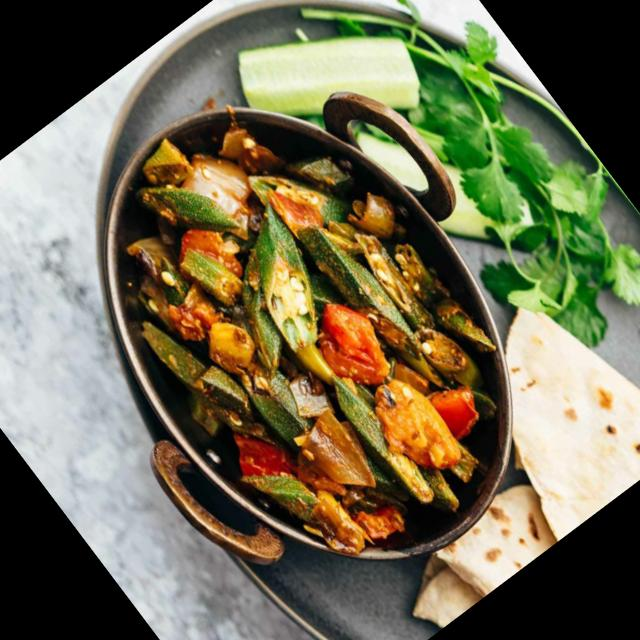BhindiMasala: (46, 50, 562, 602)
